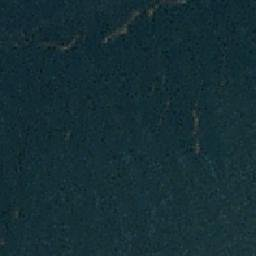debris: (192, 112, 199, 156), (117, 20, 131, 35), (146, 5, 159, 18), (63, 39, 77, 49), (103, 35, 116, 44), (132, 10, 138, 20)
